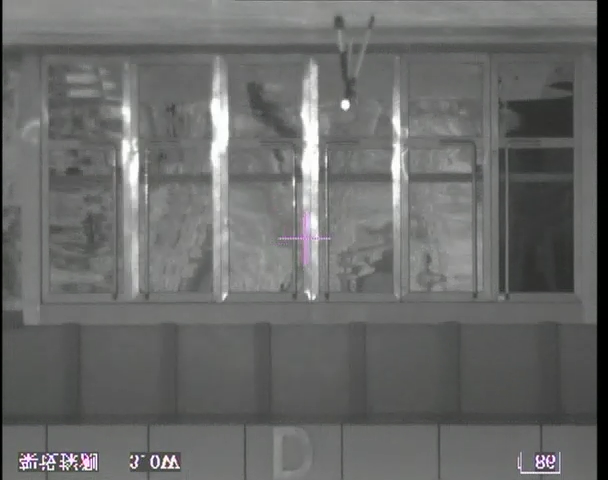my: (339, 98, 351, 112)
